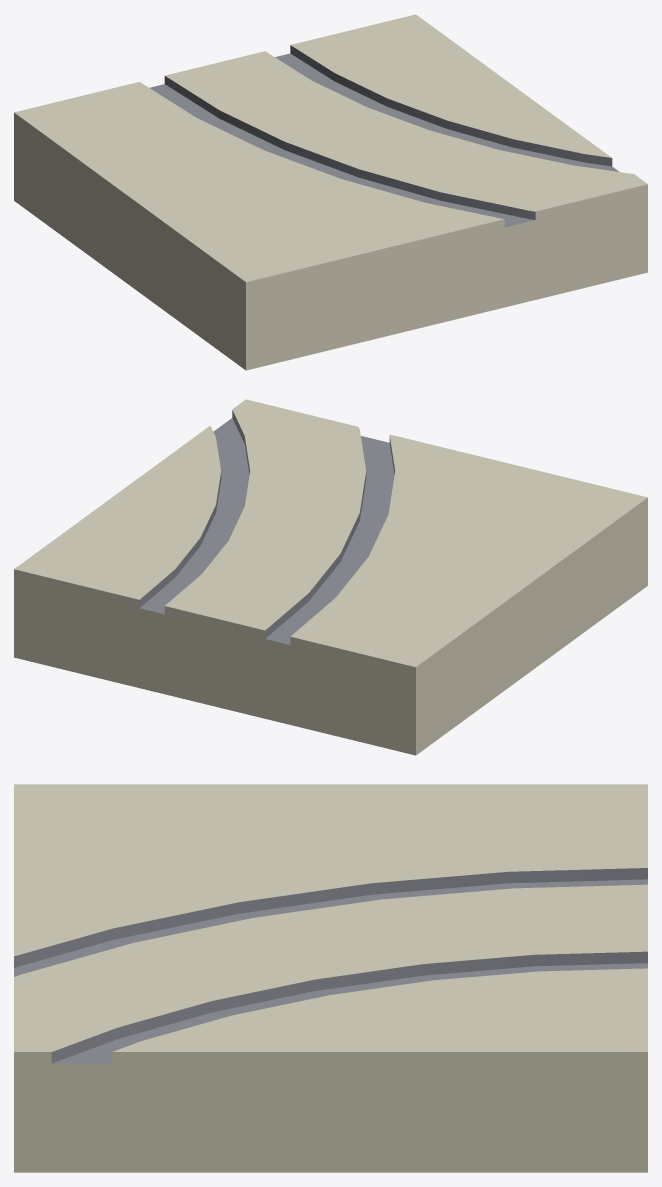
File: roadTile_096.fbx
The picture shows the model from 3 angles, top to bottom: view 1: azimuth 30°, elevation 25°; view 2: azimuth 150°, elevation 25°; view 3: azimuth 270°, elevation 25°; orthographic projection. The views are drawn at different scales.
Parts seen in each view (by area): view 1: roadTile_096; view 2: roadTile_096; view 3: roadTile_096.
Part boxes in pixels (box(x1,y1,x2,y2)): roadTile_096: box(14, 14, 647, 370); roadTile_096: box(14, 399, 647, 755); roadTile_096: box(14, 784, 647, 1172).
Bounding box in the file's own units: 118 × 24.8 × 118.
